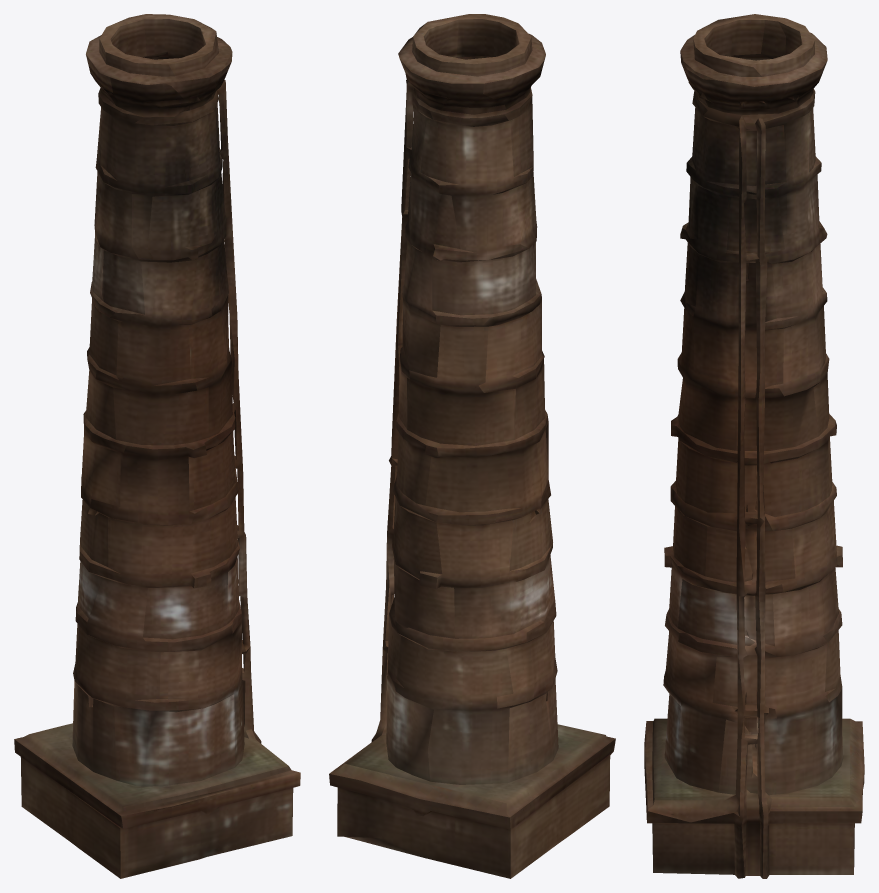
File: chimney_tall.glb
3 views of the same model, side by side, from view 1: azimuth 30°, elevation 25°; view 2: azimuth 150°, elevation 25°; view 3: azimuth 270°, elevation 25° (orthographic).
Visible parts, largest first — view 1: world; view 2: world; view 3: world.
Part boxes in pixels (<box>): world: <box>14,14,300,878</box>; world: <box>329,14,615,878</box>; world: <box>644,14,864,878</box>.
Bounding box in the file's own units: 12.54 × 50 × 12.58.
Materials: 1 (1 with a texture image).
